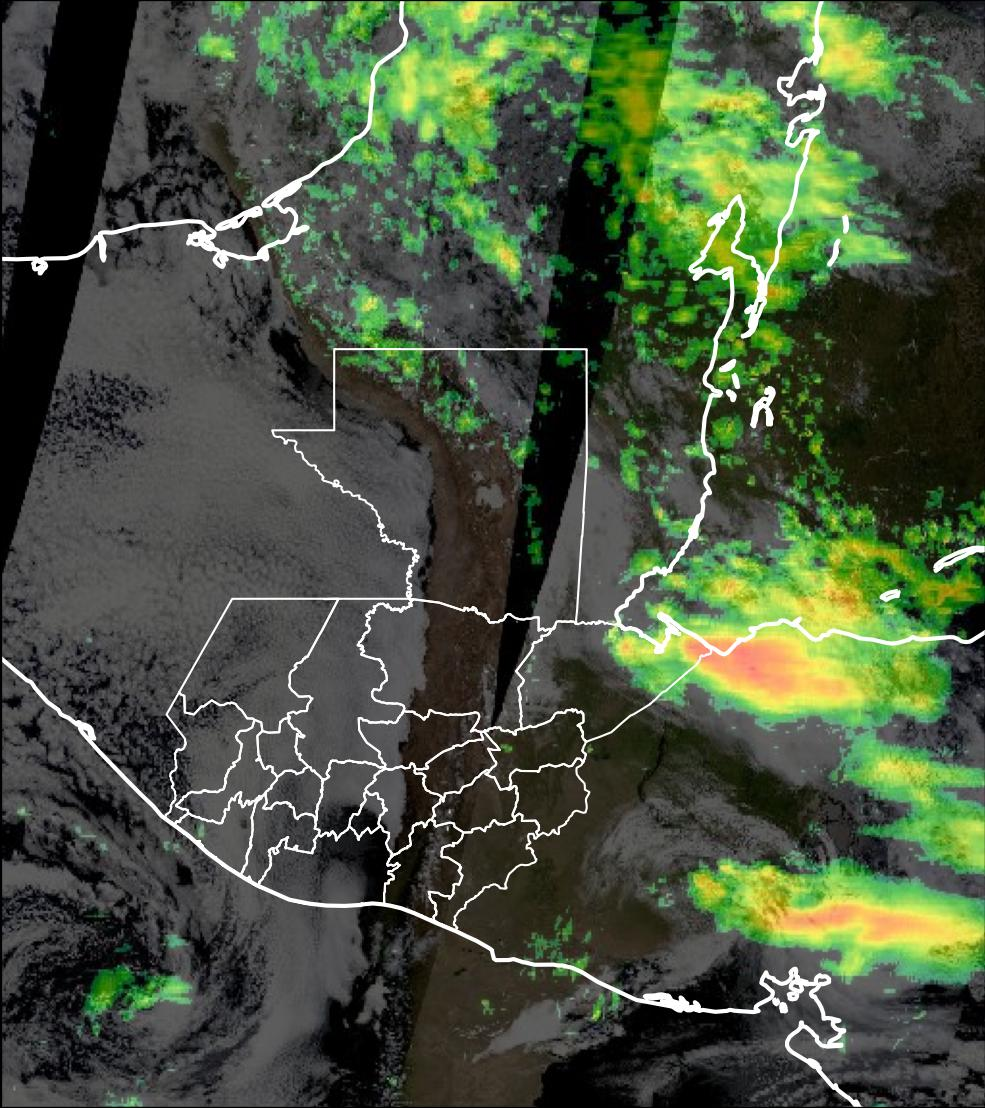precipitacion: (683, 613, 882, 734), (733, 884, 985, 978)
